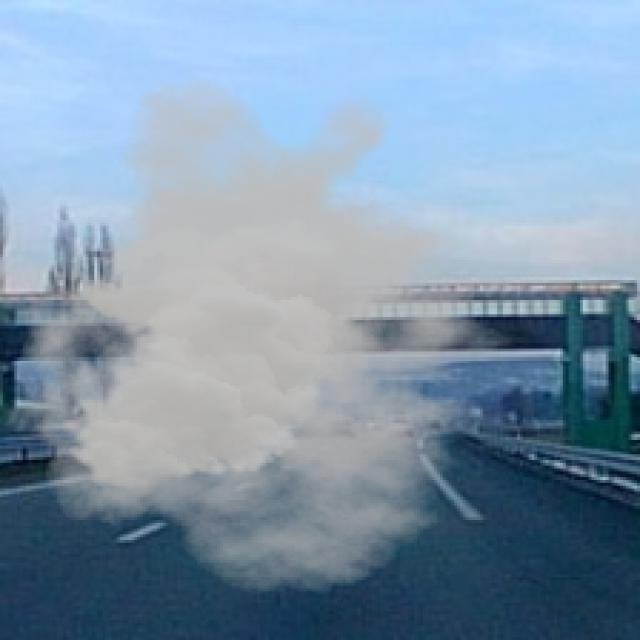Smoke: (0, 75, 537, 594)
